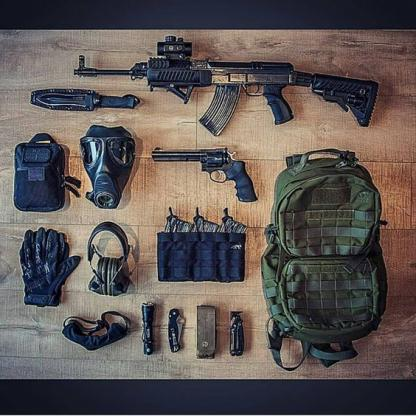Gun: (73, 34, 382, 138)
Knife: (30, 86, 141, 114), (168, 307, 186, 353)
Pistol: (150, 145, 260, 205)
